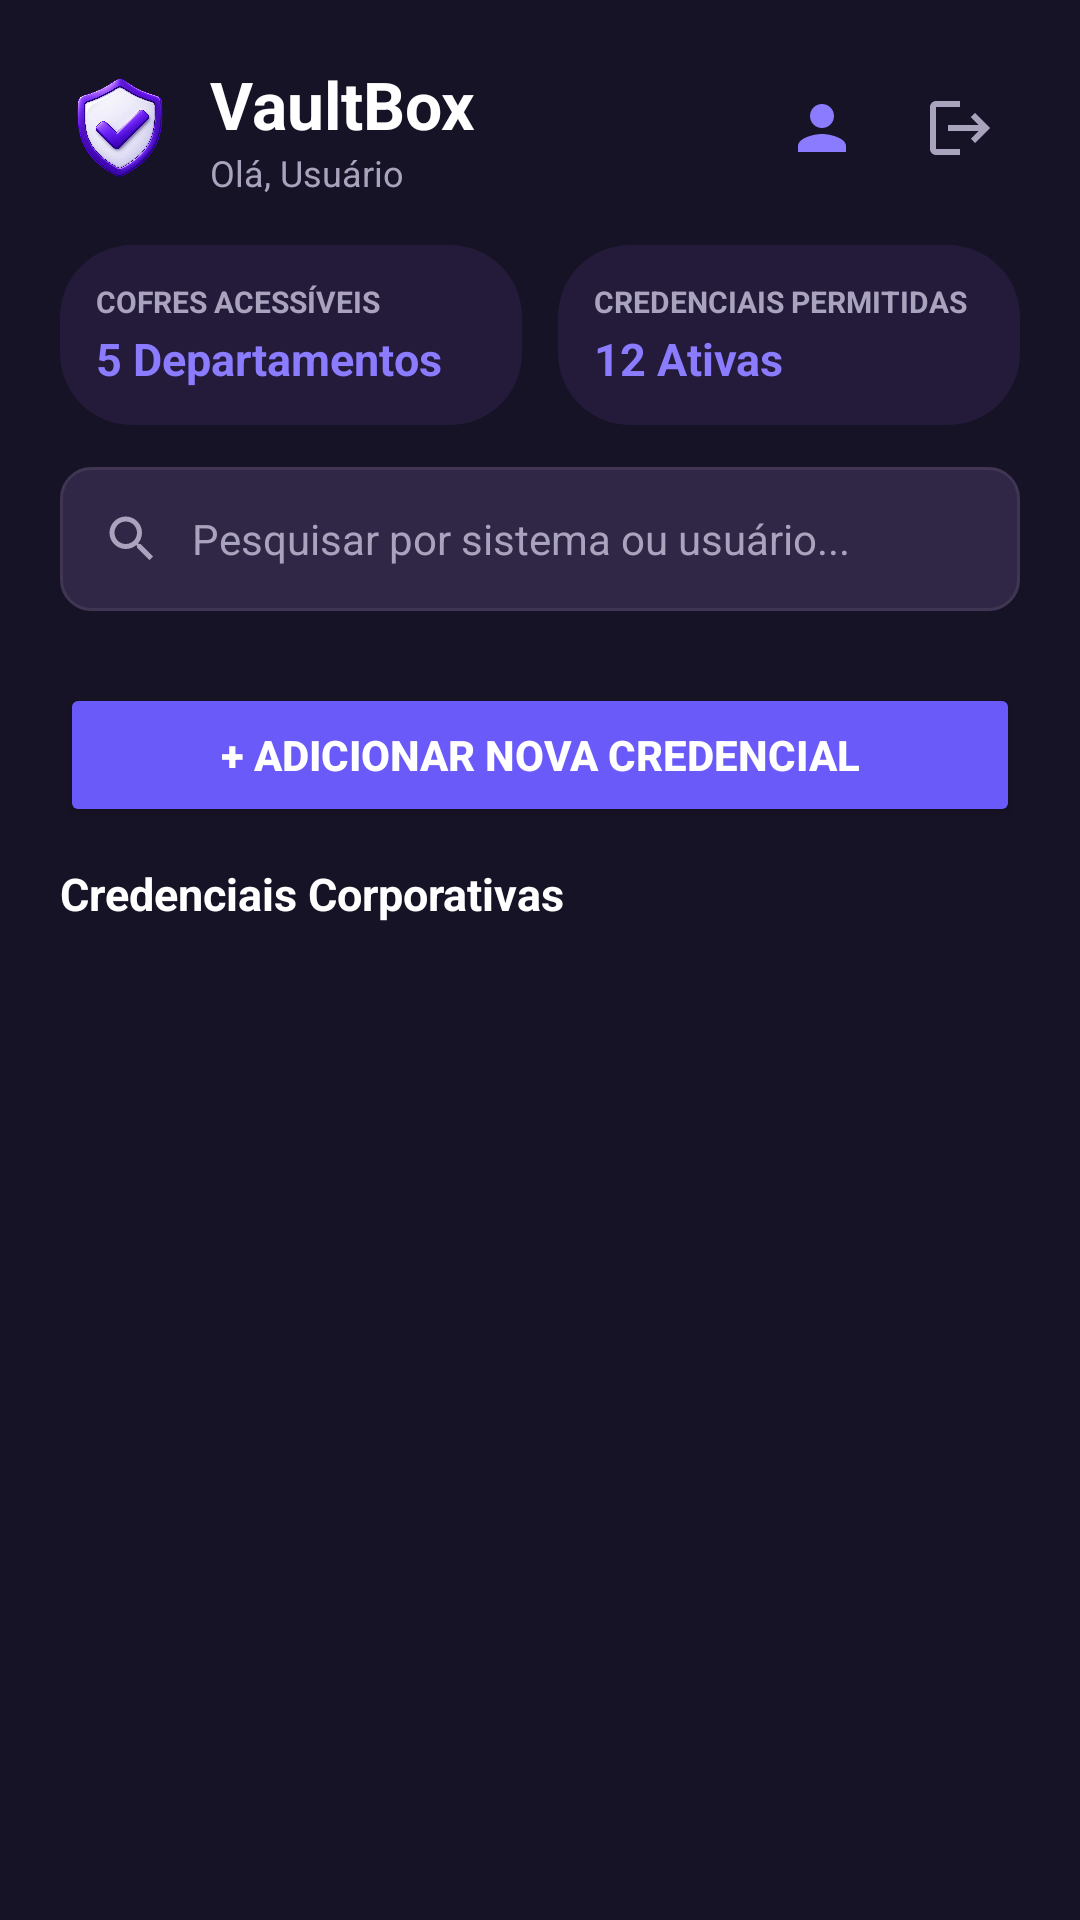

Icons on this 1080 × 1920 Android screen, each with the point to tap as (x=x, y=y):
Perfil do Usuário: (x=822, y=128)
